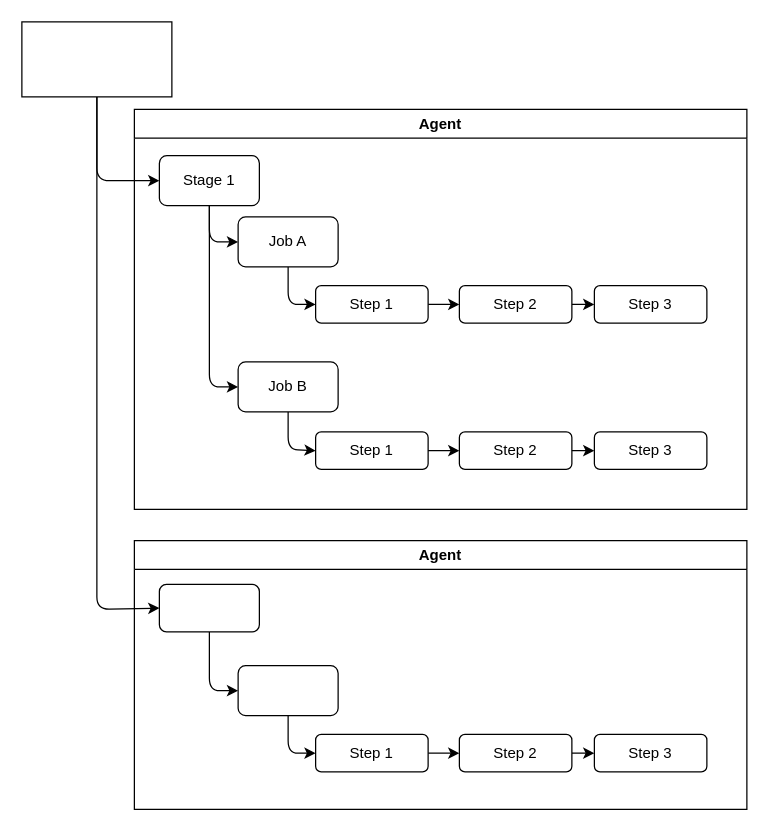
This 769x831 diagram has some shape labels left out. The shapes that lost their labels are listed below. From the top down, each one's box as (x1, y1, x2, y2) in pixels, then its label:
(21, 21, 172, 97): Pipeline
(158, 583, 259, 632): Stage 2
(237, 664, 338, 716): Job C
